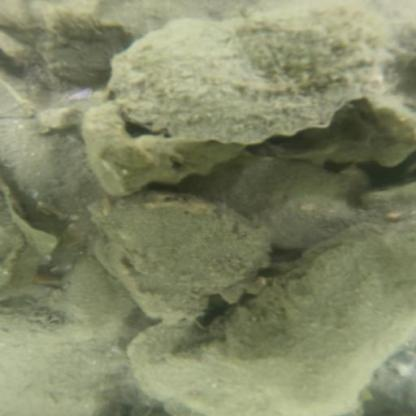Oyster- Indeterminate: (184, 214, 416, 416)
Oyster-Closed: (111, 4, 394, 140), (95, 195, 270, 310), (221, 160, 371, 248)
